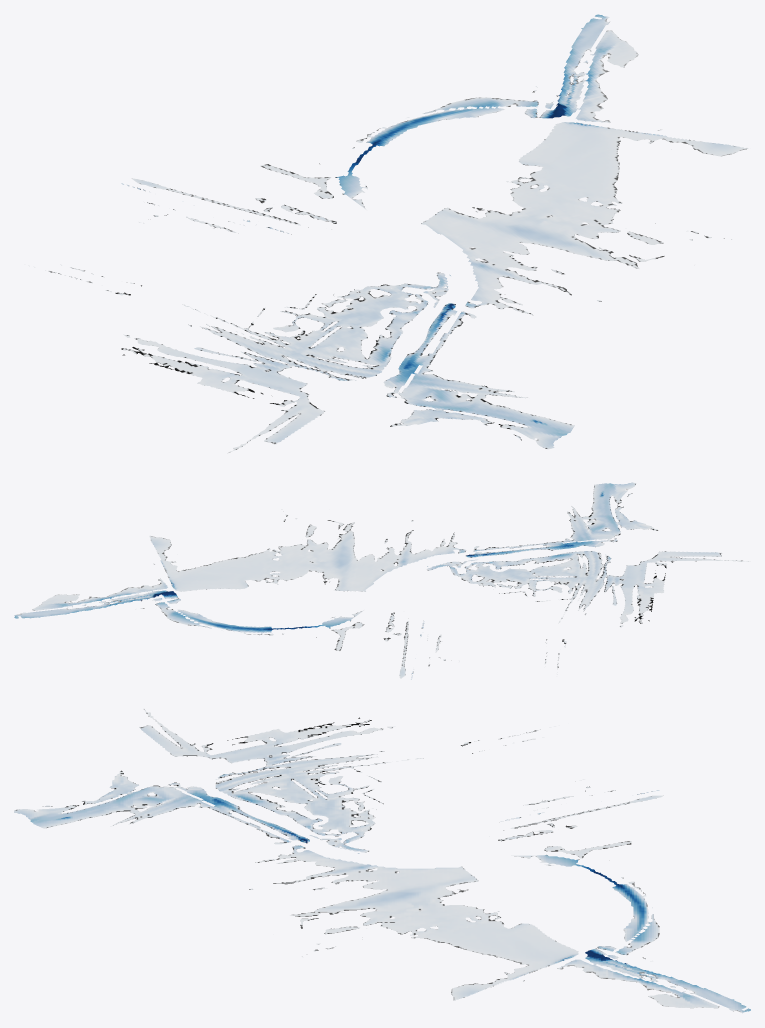
File: flood.glb
3 views of the same model, one above another, from view 1: azimuth 30°, elevation 25°; view 2: azimuth 150°, elevation 25°; view 3: azimuth 270°, elevation 25° (orthographic). The views are drawn at different scales.
Parts seen in each view (by area): view 1: flood; view 2: flood; view 3: flood.
Part boxes in pixels (x1,y1,x2,y2): flood: (24,14,748,453); flood: (14,482,750,679); flood: (14,708,750,1013).
Size of the model in its own units: 1503 by 7.47 by 1535.
Materials: 1 (1 with a texture image).
